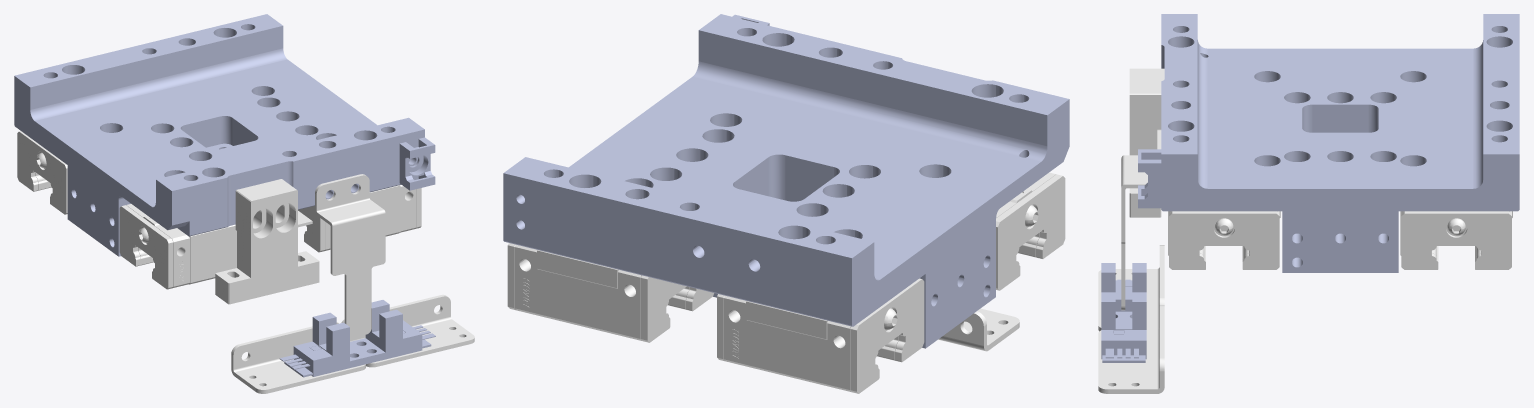
Rendered from MTH-6.glb.
3 renders of one model, left to right at view 1: azimuth 30°, elevation 25°; view 2: azimuth 150°, elevation 25°; view 3: azimuth 270°, elevation 25°, orthographic. The views are drawn at different scales.
Parts seen in each view (by area): view 1: 106X-12-MTH6NU _X2_6ed152a85ea7_X0__node, 106X-101-1 _X2_8bfb657059348fde63a55757_X0__node, 134X-31-1 _X2_59167f6e906e632194a391d1_X0_V1.0_node, 134X-30-1_X2_5f0051735b8988c5652f67b6_X0_V1.0_node, SH-SL674_X2_5f005173_X0__node_1, 134X-30-1_X2_5f0051735b8988c5652f67b6_X0_V1.0_node_1, SH-SL674_X2_5f005173_X0__node, nodes[16], nodes[40], nodes[18], _X2_87ba7eb9624e5e2656fa5b9a5668_X0_15X10X7_node, nodes[20] (+3 smaller); view 2: 106X-12-MTH6NU _X2_6ed152a85ea7_X0__node, nodes[42], nodes[34], nodes[40], nodes[16], nodes[32], 134X-30-1_X2_5f0051735b8988c5652f67b6_X0_V1.0_node, nodes[44], nodes[36], nodes[31], nodes[39], nodes[20] (+1 smaller); view 3: 106X-12-MTH6NU _X2_6ed152a85ea7_X0__node, nodes[27], nodes[35], 106X-101-1 _X2_8bfb657059348fde63a55757_X0__node, 134X-30-1_X2_5f0051735b8988c5652f67b6_X0_V1.0_node_1, SH-SL674_X2_5f005173_X0__node, 134X-30-1_X2_5f0051735b8988c5652f67b6_X0_V1.0_node, SH-SL674_X2_5f005173_X0__node_1, 134X-31-1 _X2_59167f6e906e632194a391d1_X0_V1.0_node, _X2_87ba7eb9624e5e2656fa5b9a5668_X0_15X10X7_node.
Part boxes in pixels (box(x1,y1,x2,y2)): 106X-12-MTH6NU _X2_6ed152a85ea7_X0__node: box(14, 14, 424, 256); 106X-101-1 _X2_8bfb657059348fde63a55757_X0__node: box(215, 179, 319, 304); 134X-31-1 _X2_59167f6e906e632194a391d1_X0_V1.0_node: box(315, 174, 385, 338); 134X-30-1_X2_5f0051735b8988c5652f67b6_X0_V1.0_node: box(231, 322, 365, 393); SH-SL674_X2_5f005173_X0__node_1: box(279, 312, 367, 377); 134X-30-1_X2_5f0051735b8988c5652f67b6_X0_V1.0_node_1: box(341, 294, 474, 367); SH-SL674_X2_5f005173_X0__node: box(350, 300, 435, 363); nodes[16]: box(119, 205, 173, 289); nodes[40]: box(17, 131, 67, 214); nodes[18]: box(188, 224, 236, 284); _X2_87ba7eb9624e5e2656fa5b9a5668_X0_15X10X7_node: box(399, 137, 435, 190); nodes[20]: box(126, 204, 189, 288); 106X-12-MTH6NU _X2_6ed152a85ea7_X0__node: box(503, 14, 1069, 348); nodes[42]: box(746, 301, 828, 386); nodes[34]: box(537, 250, 619, 335); nodes[40]: box(850, 278, 924, 393); nodes[16]: box(996, 174, 1065, 290); nodes[32]: box(641, 275, 714, 342); 134X-30-1_X2_5f0051735b8988c5652f67b6_X0_V1.0_node: box(938, 308, 1019, 351); nodes[44]: box(827, 321, 898, 392); nodes[36]: box(618, 270, 689, 340); nodes[31]: box(514, 244, 538, 315); nodes[39]: box(724, 295, 748, 366); nodes[20]: box(996, 172, 1055, 257); 106X-12-MTH6NU _X2_6ed152a85ea7_X0__node: box(1161, 14, 1519, 272); nodes[27]: box(1169, 211, 1279, 269); nodes[35]: box(1401, 211, 1511, 269); 106X-101-1 _X2_8bfb657059348fde63a55757_X0__node: box(1129, 68, 1164, 217); 134X-30-1_X2_5f0051735b8988c5652f67b6_X0_V1.0_node_1: box(1098, 305, 1164, 393); SH-SL674_X2_5f005173_X0__node: box(1101, 292, 1146, 362); 134X-30-1_X2_5f0051735b8988c5652f67b6_X0_V1.0_node: box(1098, 245, 1164, 331); SH-SL674_X2_5f005173_X0__node_1: box(1101, 263, 1146, 319); 134X-31-1 _X2_59167f6e906e632194a391d1_X0_V1.0_node: box(1121, 129, 1161, 310); _X2_87ba7eb9624e5e2656fa5b9a5668_X0_15X10X7_node: box(1138, 149, 1161, 208).
Size of the model in its own units: 111 by 75.05 by 127.
